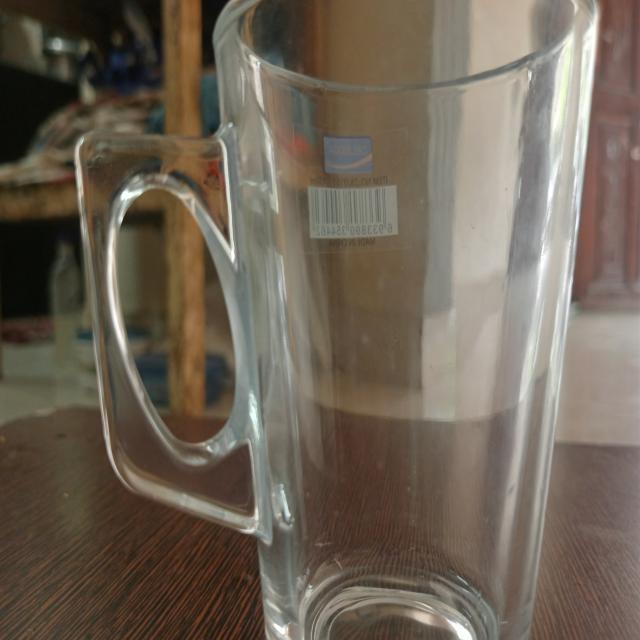glass-VX4N: (75, 3, 609, 640)
